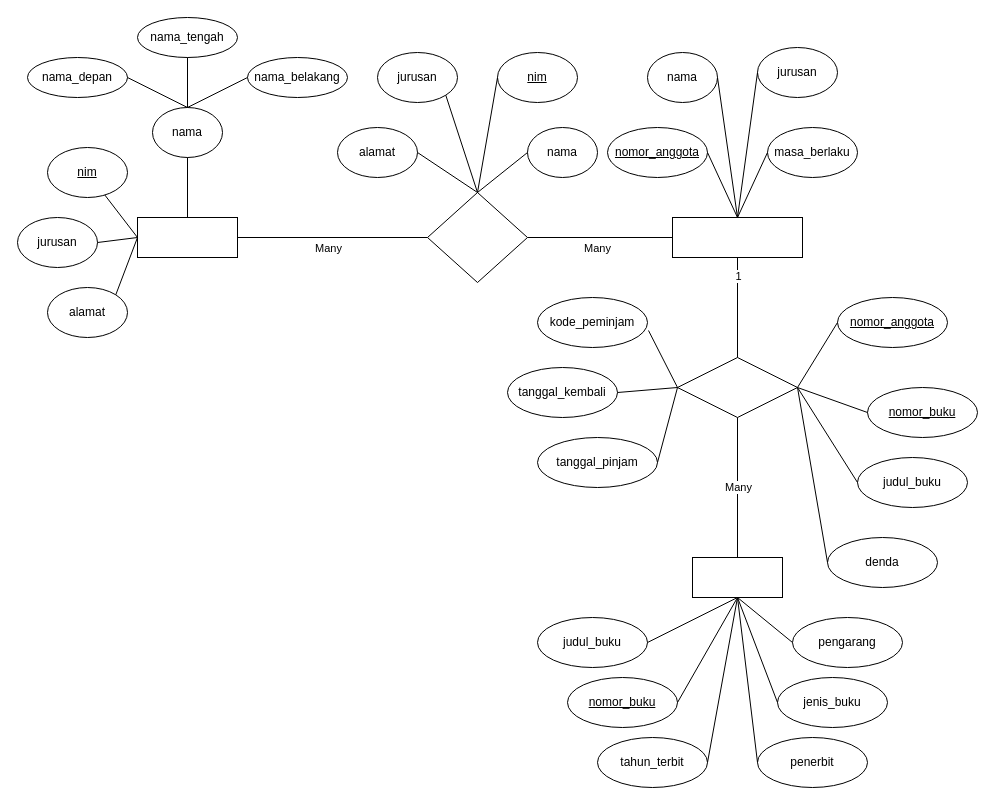
Some shapes in this 995 by 805 pixel diagram are drawn without their labels. The centre of each missing label's shape, as x and y in pixels:
anggota_perputakaan: point (737, 237)
buku: point (737, 577)
Mahasiswa: point (187, 237)
meminjam: point (737, 387)
mendaftar: point (477, 237)
